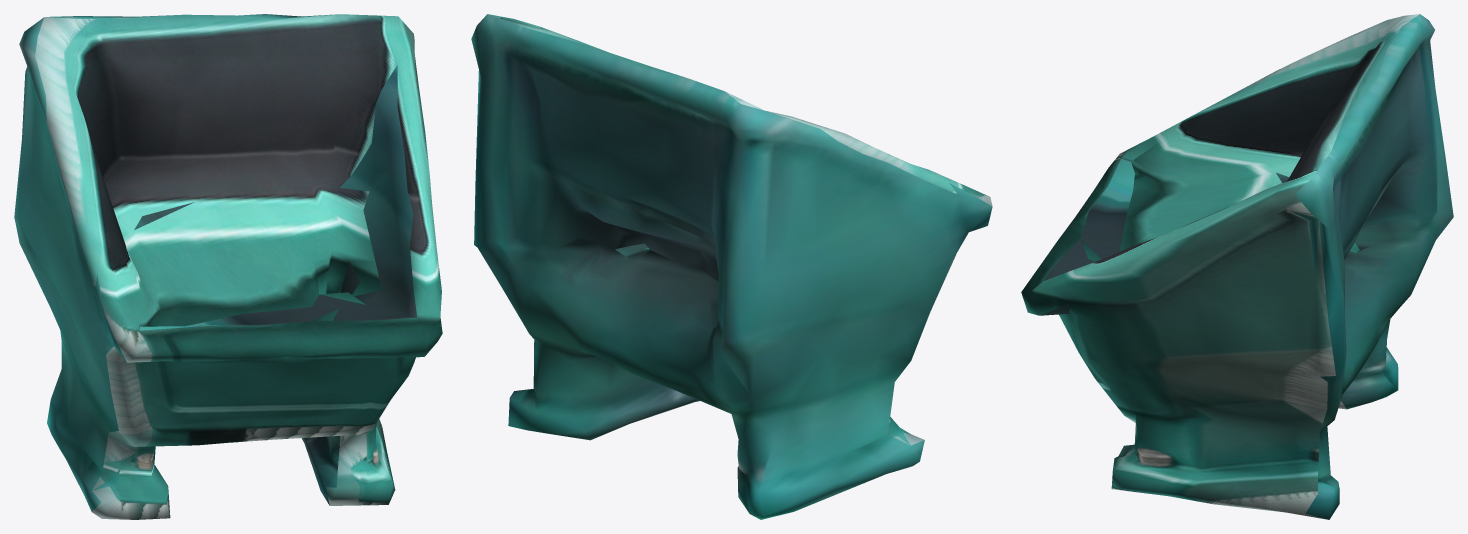
File: hopper.glb
The picture shows the model from 3 angles, left to right: view 1: azimuth 30°, elevation 25°; view 2: azimuth 150°, elevation 25°; view 3: azimuth 270°, elevation 25°; orthographic projection. The views are drawn at different scales.
Parts seen in each view (by area): view 1: hopper; view 2: hopper; view 3: hopper.
Boxes of the visible parts, x1=… form: hopper: x1=14, y1=14, x2=442, y2=519; hopper: x1=471, y1=14, x2=992, y2=519; hopper: x1=1021, y1=14, x2=1453, y2=519.
Bounding box in the file's own units: 1 × 1 × 1.
2 materials, 2 textured.
